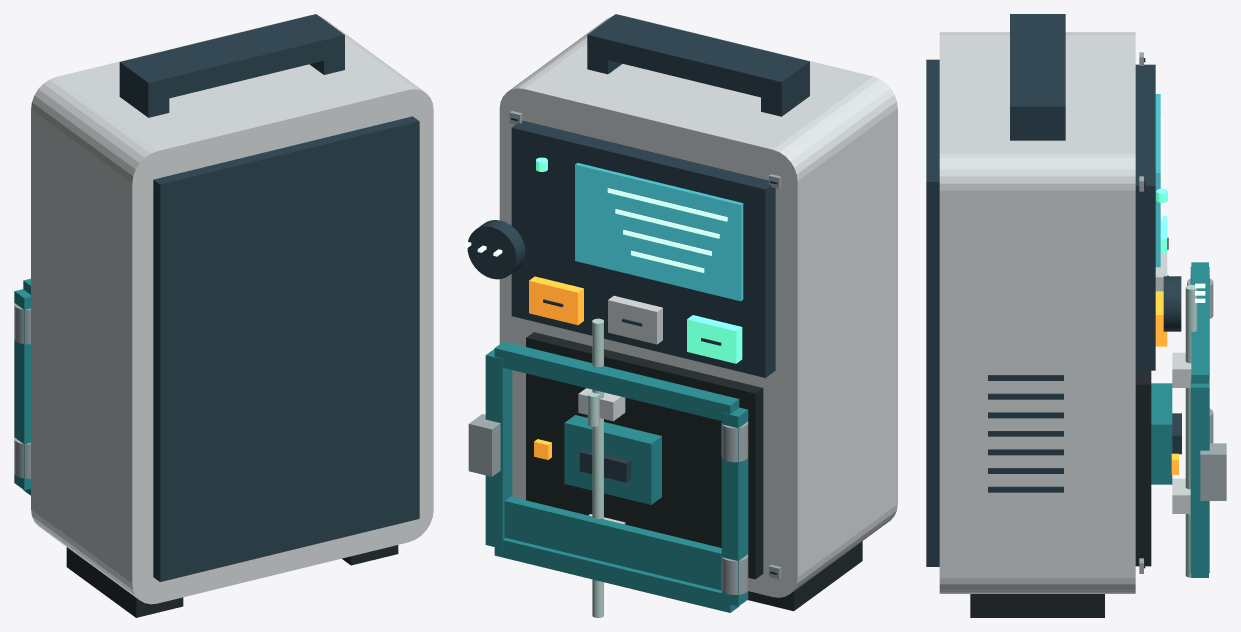
Rendered from aurora-training.glb.
The picture shows the model from 3 angles, left to right: view 1: azimuth 30°, elevation 25°; view 2: azimuth 150°, elevation 25°; view 3: azimuth 270°, elevation 25°; orthographic projection. The views are drawn at different scales.
Parts seen in each view (by area): view 1: Rear service shell, Rounded housing, Top carry grip, Hinge stile, Rubber foot -0.082, Grip riser -0.067, Grip riser 0.067, Hinge barrel 0.049, Hinge barrel -0.049; view 2: Rounded housing, Panel bezel, Line bay, Display, Top carry grip, Cover lower guard, Top rail, Sensor enclosure, Bottom rail, Latch stile, Hinge stile, Flow dial knob (+13 smaller); view 3: Rounded housing, Rear service shell, Panel bezel, Top carry grip, Latch stile, Line bay, Rubber foot 0.082, Sensor enclosure, Top rail, Line segment, Door latch, Grip riser 0.067 (+12 smaller).
Boxes of the visible parts, bbox=[...] form: Rear service shell: bbox=[153, 116, 419, 581]; Rounded housing: bbox=[31, 15, 433, 604]; Top carry grip: bbox=[119, 14, 344, 103]; Hinge stile: bbox=[14, 289, 30, 490]; Rubber foot -0.082: bbox=[66, 547, 183, 617]; Grip riser -0.067: bbox=[119, 66, 169, 117]; Grip riser 0.067: bbox=[310, 40, 344, 74]; Hinge barrel 0.049: bbox=[14, 303, 30, 344]; Hinge barrel -0.049: bbox=[14, 437, 30, 478]; Rounded housing: bbox=[499, 15, 897, 597]; Panel bezel: bbox=[511, 120, 775, 377]; Line bay: bbox=[526, 332, 763, 579]; Display: bbox=[575, 163, 743, 301]; Top carry grip: bbox=[587, 14, 809, 102]; Cover lower guard: bbox=[504, 496, 721, 590]; Top rail: bbox=[494, 341, 739, 420]; Sensor enclosure: bbox=[564, 415, 661, 504]; Bottom rail: bbox=[494, 538, 739, 612]; Latch stile: bbox=[485, 349, 512, 548]; Hinge stile: bbox=[721, 407, 748, 606]; Flow dial knob: bbox=[467, 220, 525, 279]; Rounded housing: bbox=[939, 32, 1135, 593]; Rear service shell: bbox=[926, 59, 939, 566]; Panel bezel: bbox=[1135, 64, 1155, 370]; Top carry grip: bbox=[1010, 14, 1065, 126]; Latch stile: bbox=[1190, 379, 1209, 573]; Line bay: bbox=[1135, 370, 1151, 566]; Rubber foot 0.082: bbox=[970, 594, 1104, 617]; Sensor enclosure: bbox=[1151, 383, 1172, 484]; Top rail: bbox=[1191, 262, 1208, 383]; Line segment: bbox=[1185, 284, 1197, 577]; Door latch: bbox=[1200, 443, 1226, 500]; Grip riser 0.067: bbox=[1010, 110, 1065, 140].
Bounding box in the file's own units: 0.237 × 0.38 × 0.205.
